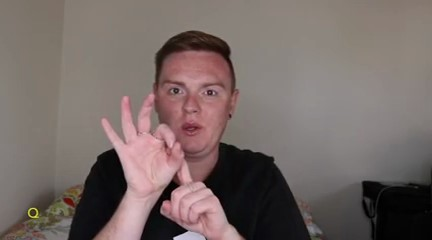Q: (99, 88, 225, 239)
